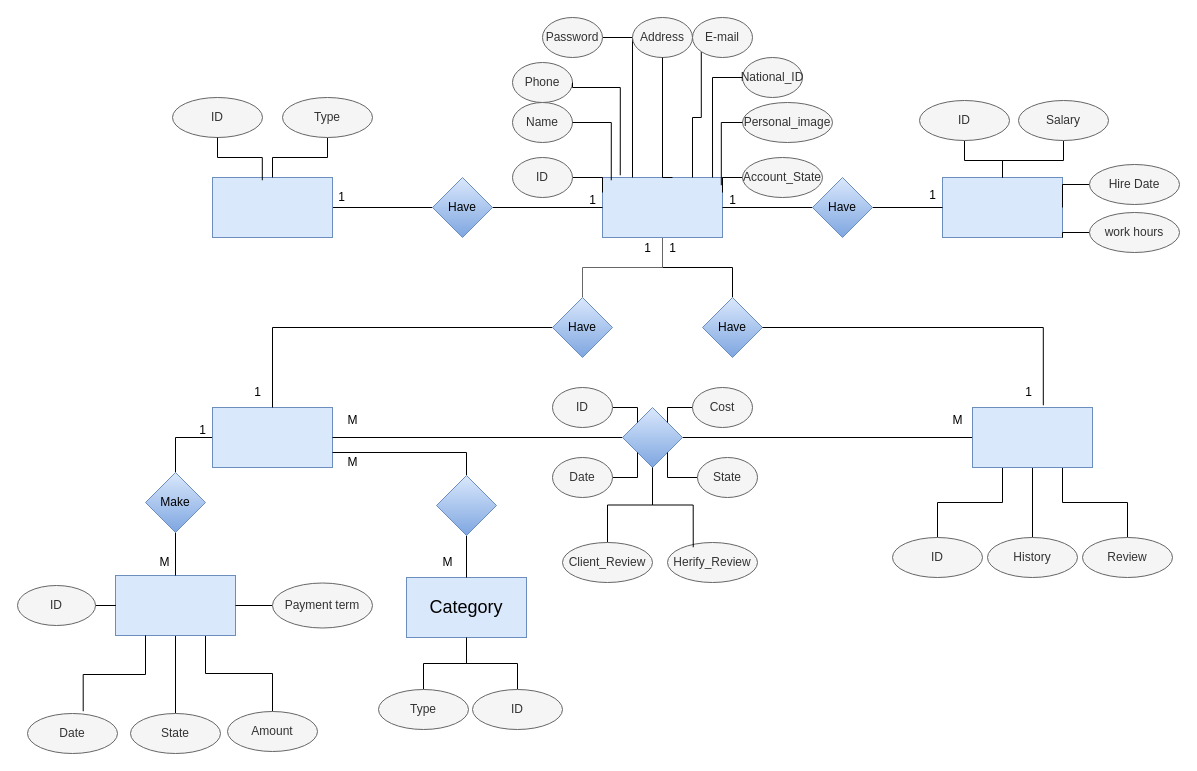
Some shapes in this 1197 by 771 pixel diagram are drawn without their labels. The shapes that lost their labels are listed below. From the top down, each one's centre as x and y in pixels, then its label:
the point at 272,207: Role
the point at 662,207: User
the point at 1002,207: Staff
the point at 272,437: Herify
the point at 652,437: Contact
the point at 1032,437: Client
the point at 466,505: Select
the point at 175,605: Payment
